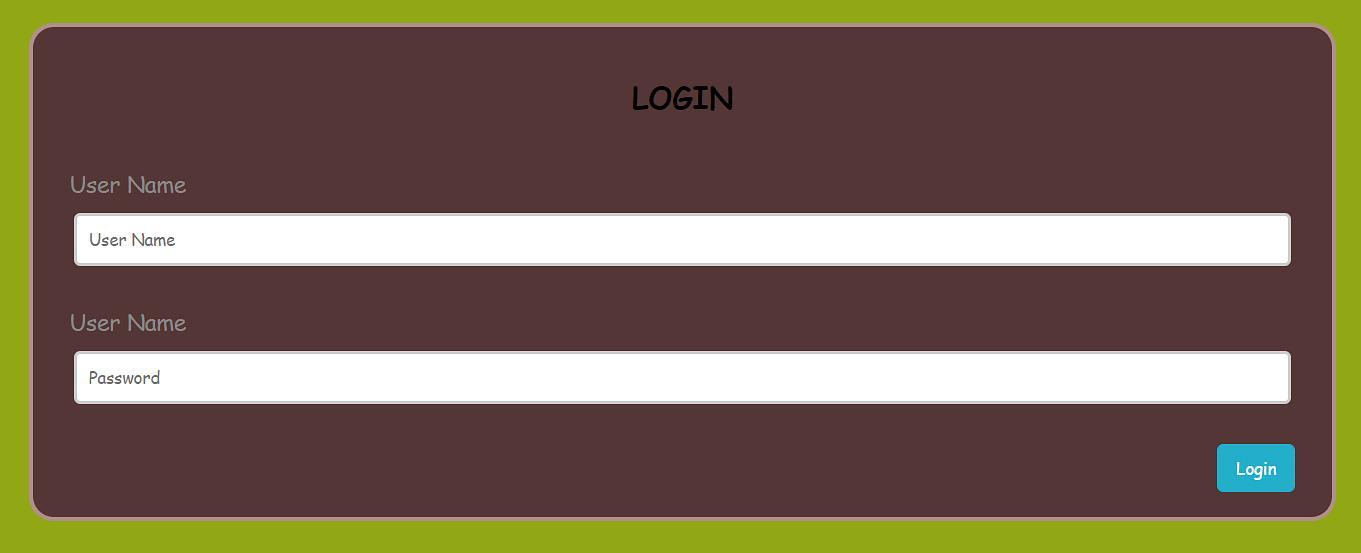button: (1217, 442, 1299, 497)
input: (75, 349, 1292, 408), (74, 216, 1291, 267)
label: (622, 81, 740, 116), (70, 311, 192, 337), (69, 175, 195, 197)
